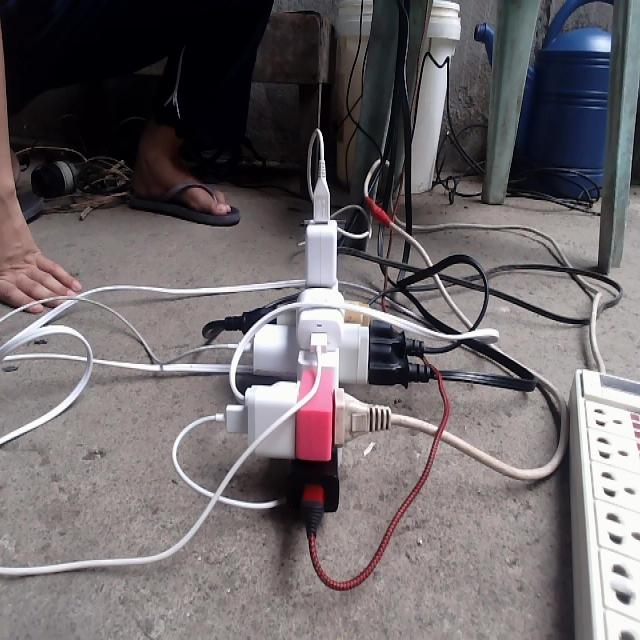-: (221, 214, 403, 522)
